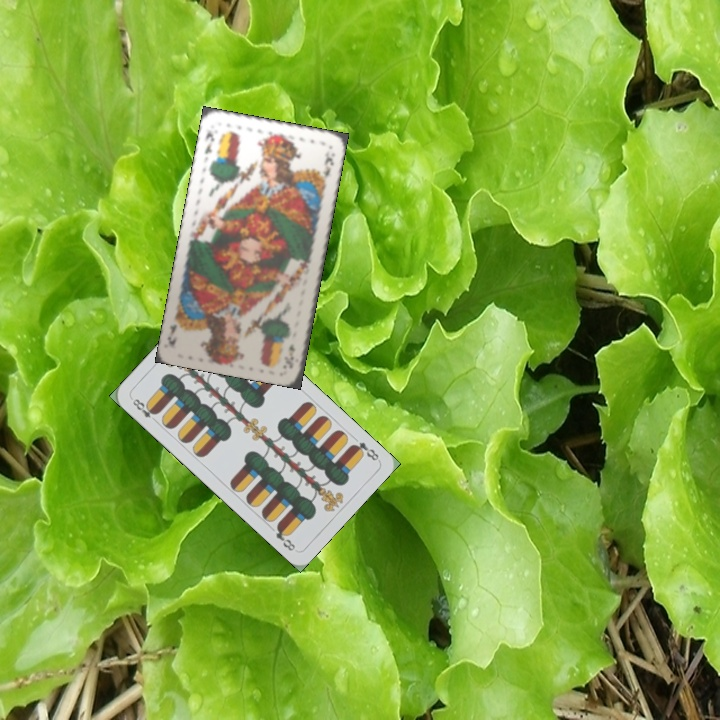E8: (128, 395, 160, 426), (347, 438, 381, 463)
EK: (201, 127, 217, 157), (283, 340, 298, 371)
